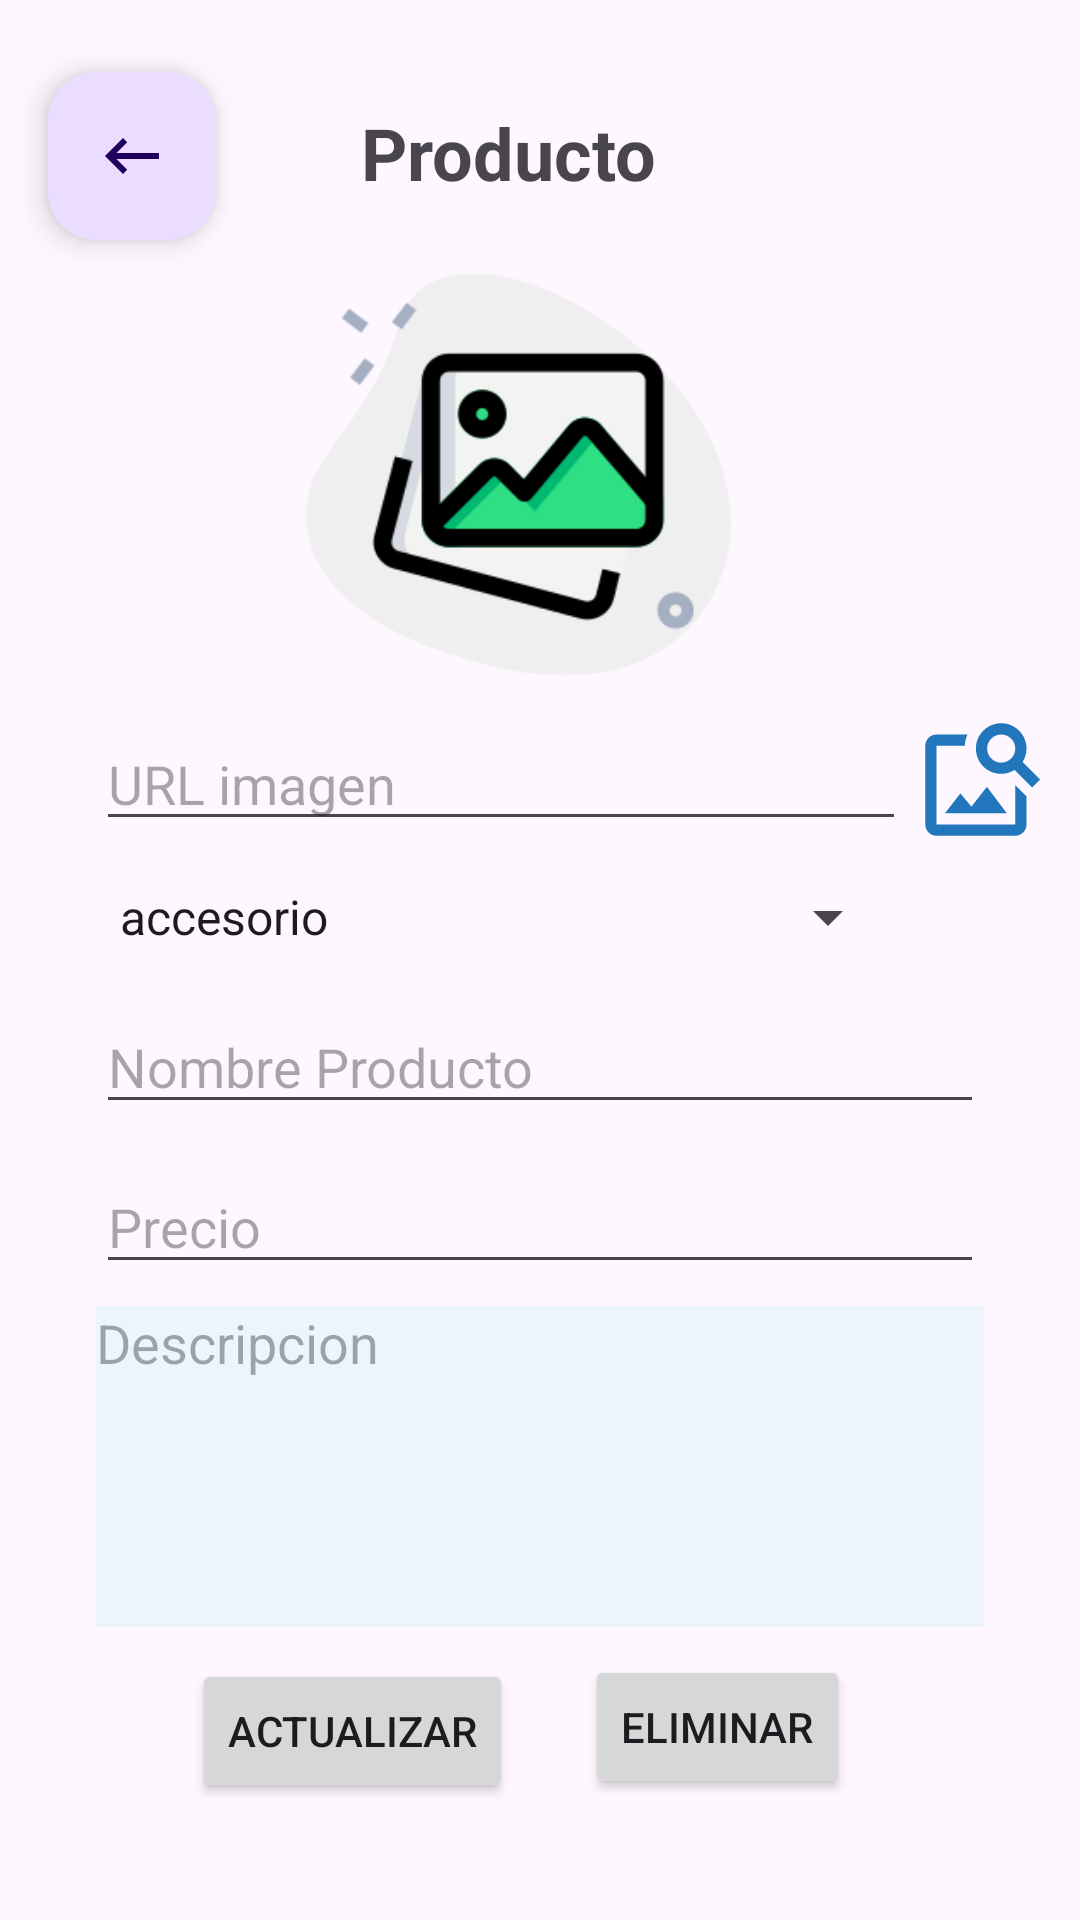

Icons on this 1080px×1920px Android screen, each with its box as BBox(x1, y1, x2, y2):
regresar: BBox(48, 72, 216, 240)
search: BBox(925, 723, 1040, 836)
